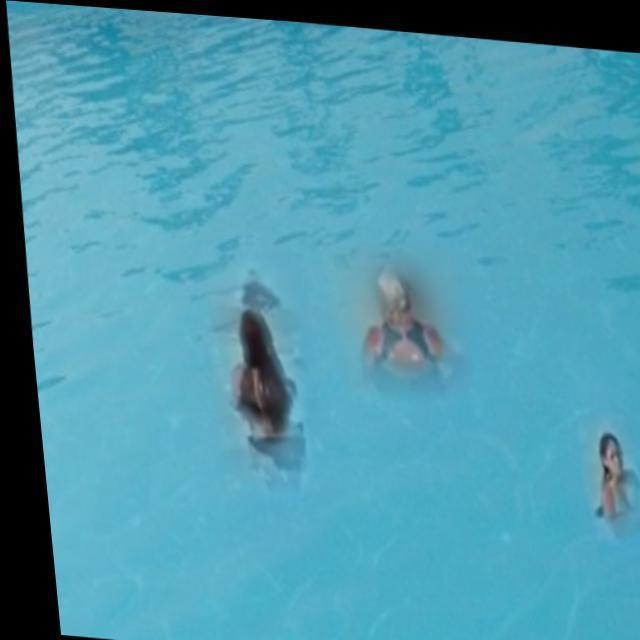swimming: (209, 306, 323, 461), (355, 257, 477, 398), (571, 424, 640, 556)
